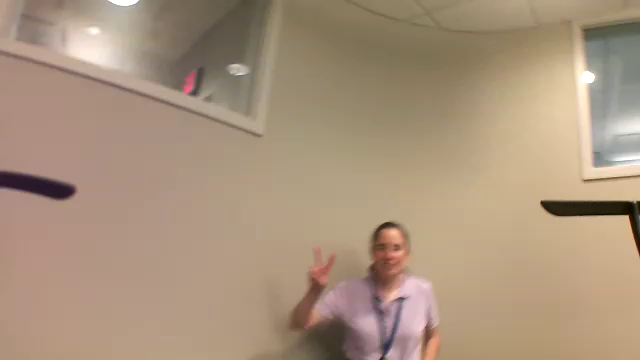peace: (300, 241, 342, 291)
